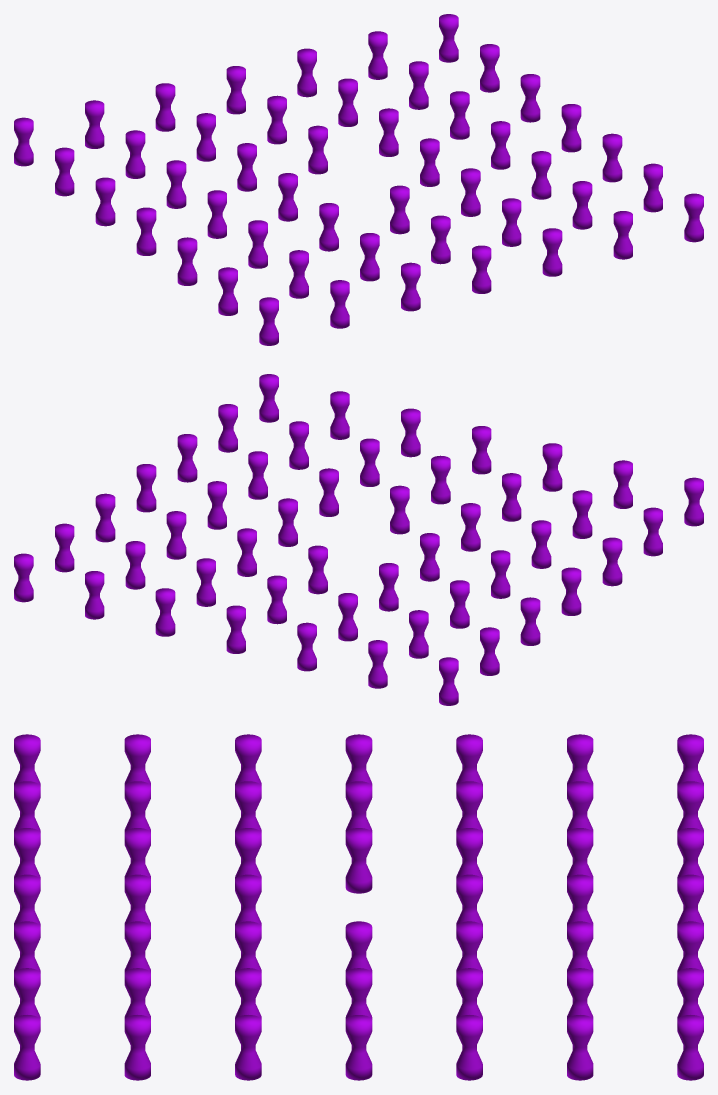
Rendered from blender_test.gltf.
3 views of the same model, one above another, from view 1: azimuth 30°, elevation 25°; view 2: azimuth 150°, elevation 25°; view 3: azimuth 270°, elevation 25° (orthographic). The views are drawn at different scales.
Visible parts, largest first — view 1: CylinderArray; view 2: CylinderArray; view 3: CylinderArray.
Part boxes in pixels (bbox=[...]): CylinderArray: bbox=[14, 14, 703, 345]; CylinderArray: bbox=[14, 374, 703, 705]; CylinderArray: bbox=[14, 734, 703, 1080].
Bounding box in the file's own units: 15.6 × 1.36 × 15.6.
